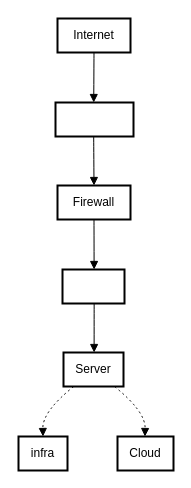
This 191x488 diagram has some shape labels left out. The shapes that lost their labels are listed below. From the top down, each one's centre as x and y in pixels, then its label:
the point at 94,119: Gateway
the point at 93,286: Switch
